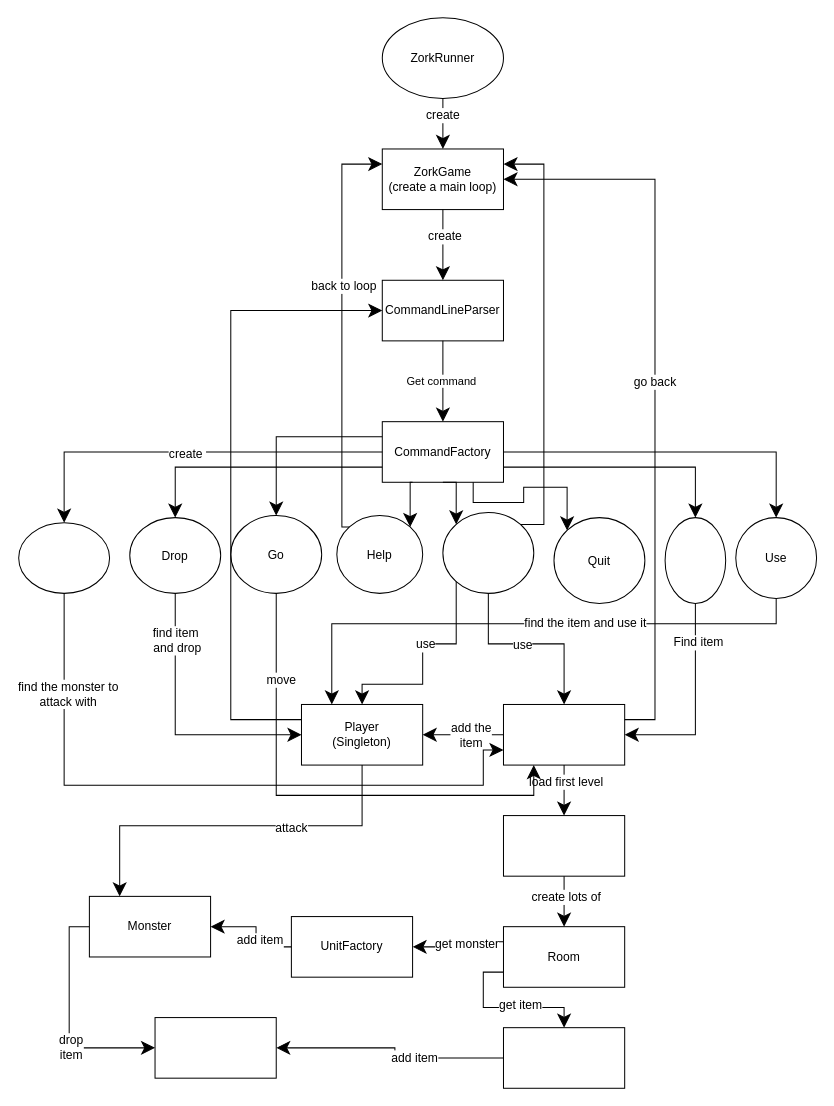
Some shapes in this 834 by 1106 pixel diagram are drawn without their labels. Each missing label, with the box of its shape:
AttackWith: (18, 522, 110, 593)
GameMap (Singleton): (502, 703, 625, 765)
GameMapGenerator: (502, 815, 625, 876)
Info: (442, 512, 534, 593)
Item: (154, 1017, 276, 1078)
ItemFactory: (502, 1027, 625, 1088)
Take: (664, 517, 726, 603)
